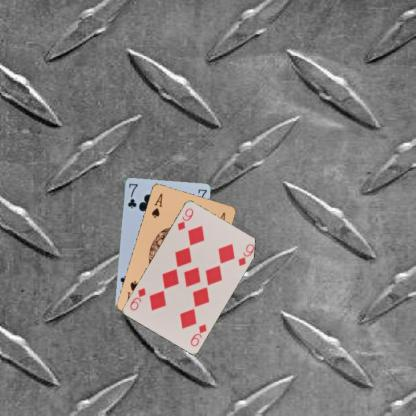7c: (124, 181, 138, 209)
9d: (174, 205, 194, 232), (188, 321, 208, 347)
As: (149, 190, 164, 219)
